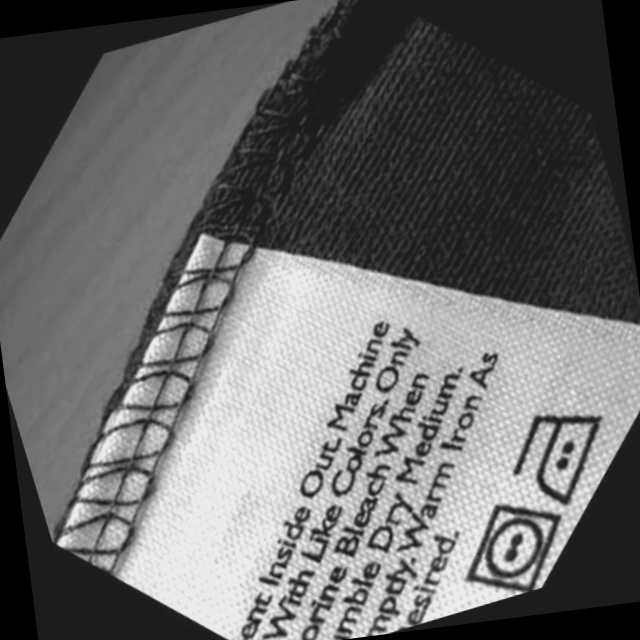iron_medium: (498, 393, 631, 516)
tumble_dry_medium: (448, 487, 584, 607)
